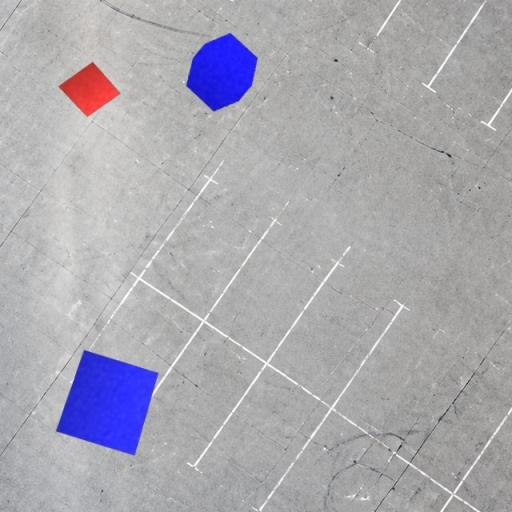BLUE_SQUARE: (55, 350, 159, 456)
RED_SQUARE: (58, 62, 122, 118)
